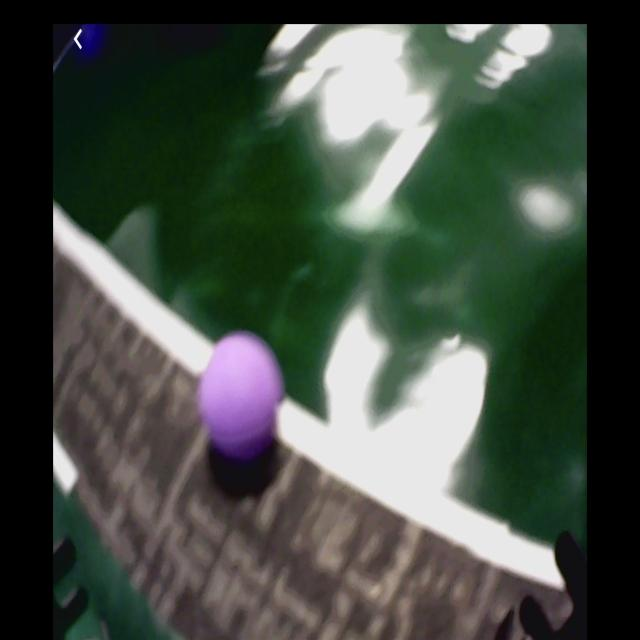ball: (200, 334, 281, 455), (76, 25, 104, 61)
